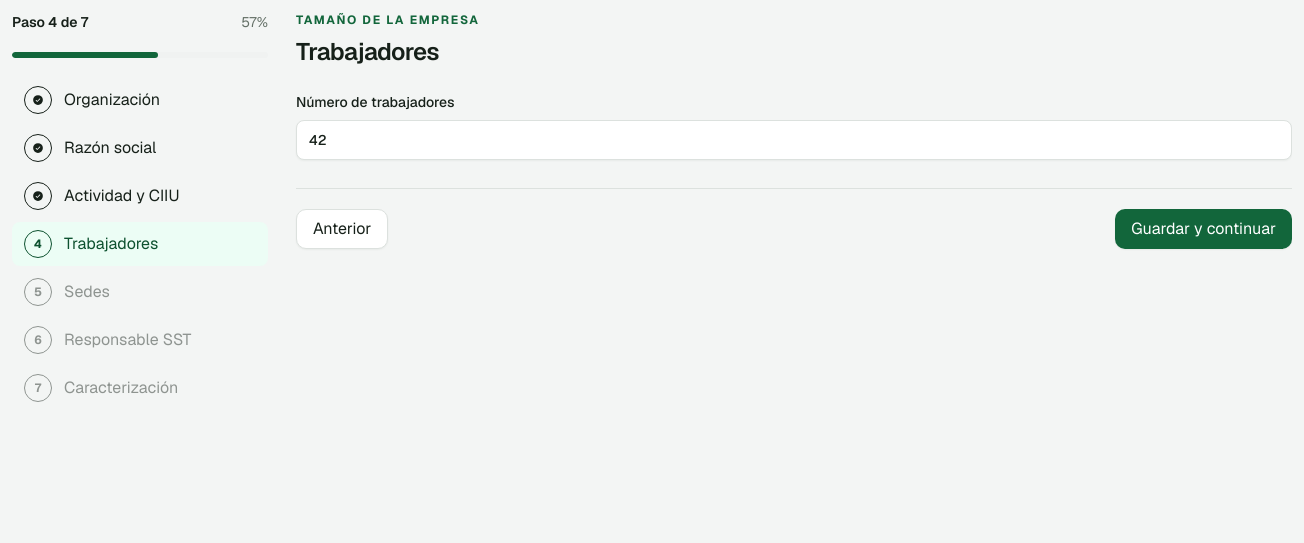
Test: OnboardingForm › resumes at the persisted step and saves before advancing
Expected: the heading "Trabajadores" is shown, [296,36,439,67]
Expected: the button "5 Sedes" is disabled, [12,270,268,314]
Click the button "Guardar y continuar" at (1204, 229), box [1115,209,1292,249]
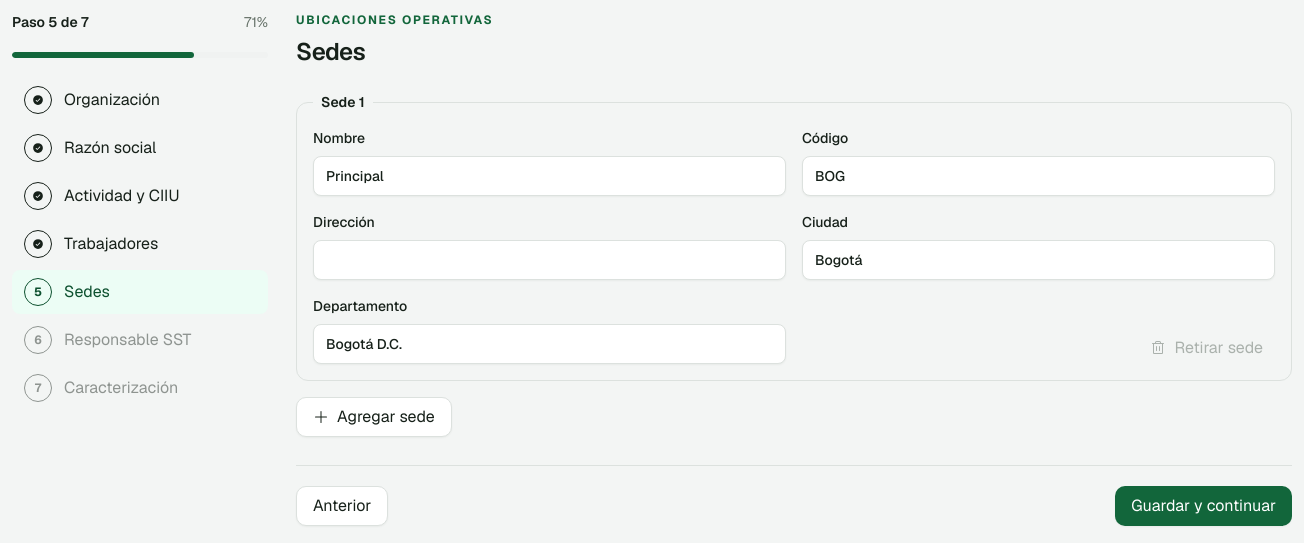
Result: the heading "Sedes" is shown at [296,36,365,67]
